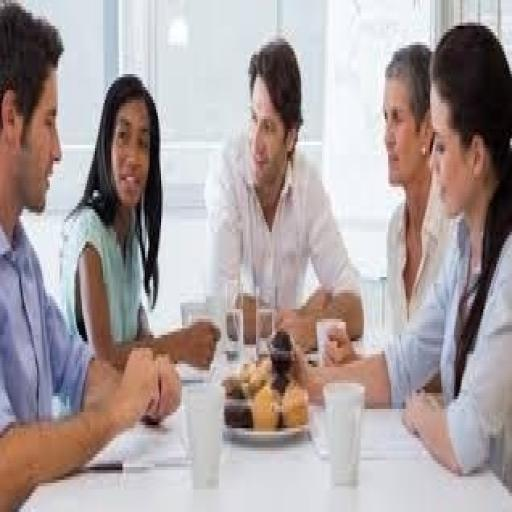eating: (293, 19, 510, 493), (0, 0, 184, 509), (203, 35, 365, 351), (58, 71, 222, 380)
